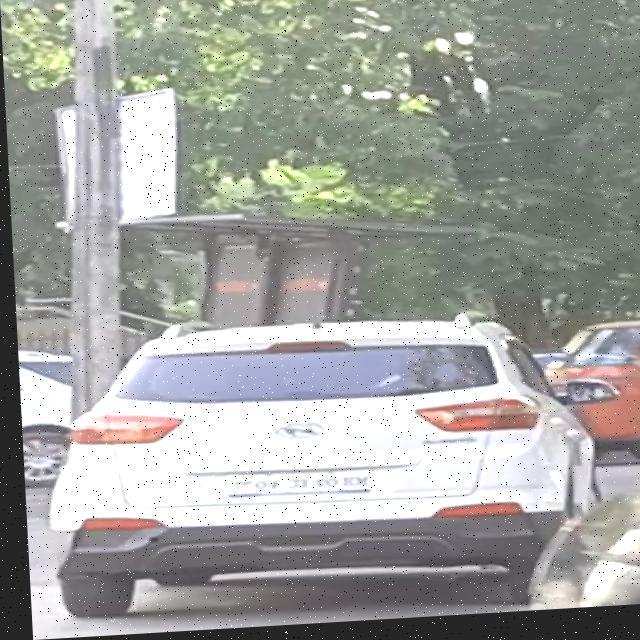plate: (219, 470, 374, 502)
